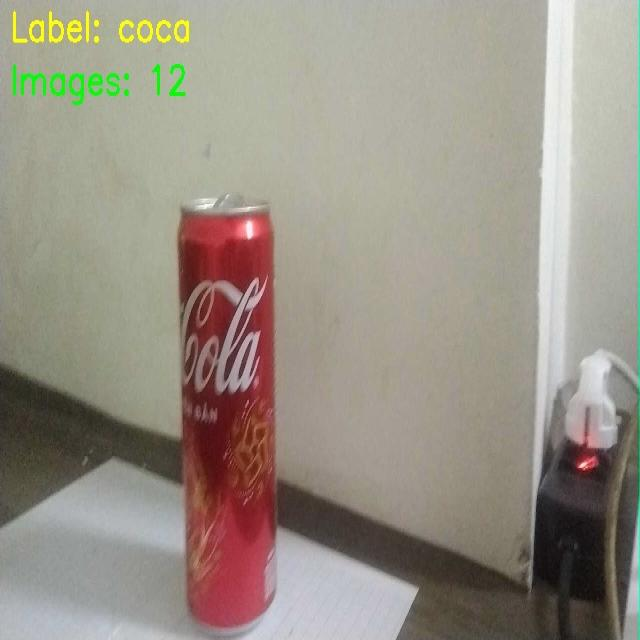Coca: (154, 160, 299, 634)
